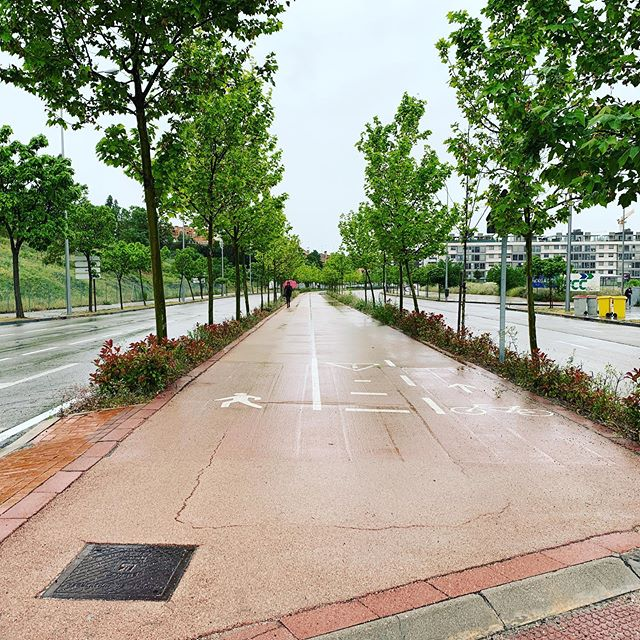building: (594, 224, 640, 304), (483, 234, 541, 286), (541, 234, 591, 280), (436, 233, 476, 274)
sidewalk: (43, 290, 618, 635)
sky: (3, 1, 640, 216)
street: (1, 287, 250, 436), (364, 284, 640, 408)
tree: (17, 1, 229, 343), (462, 1, 640, 319), (184, 70, 253, 359), (367, 128, 448, 331)
